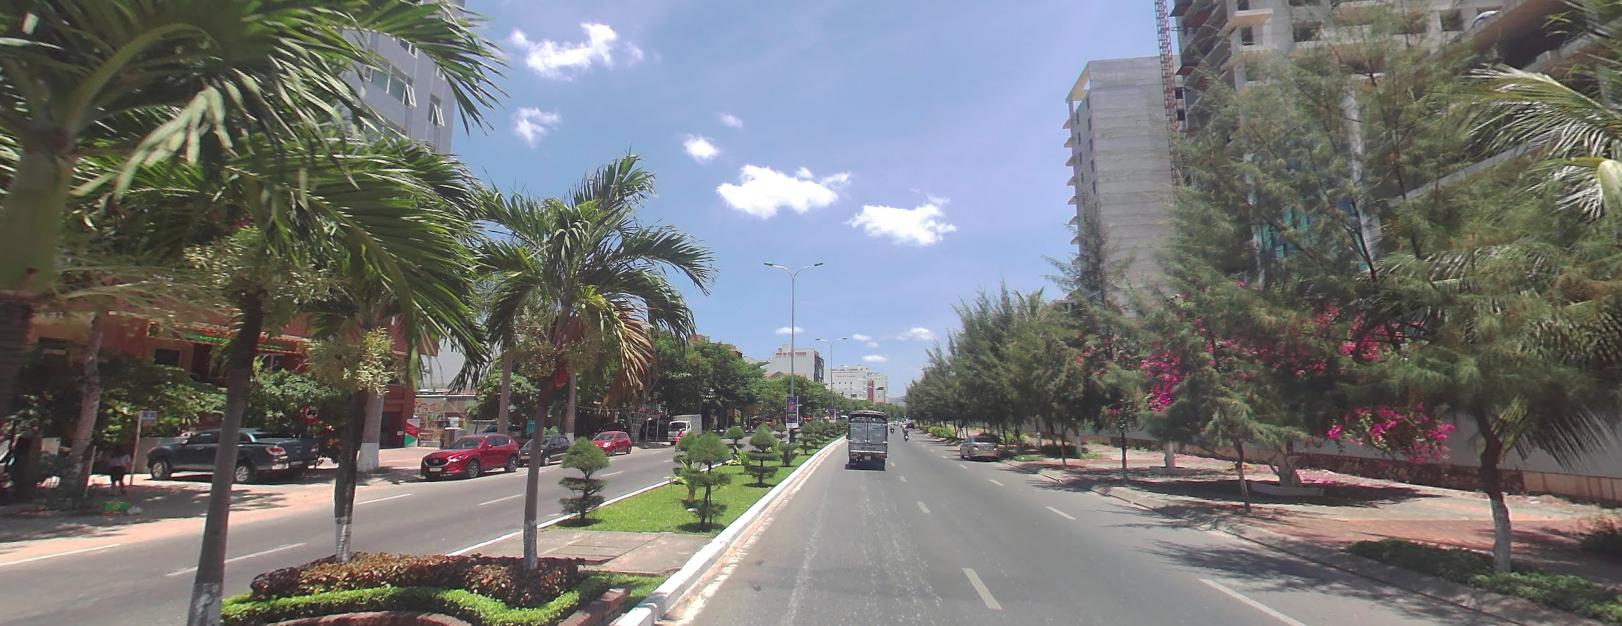Cam con lai: (301, 400, 319, 419)
